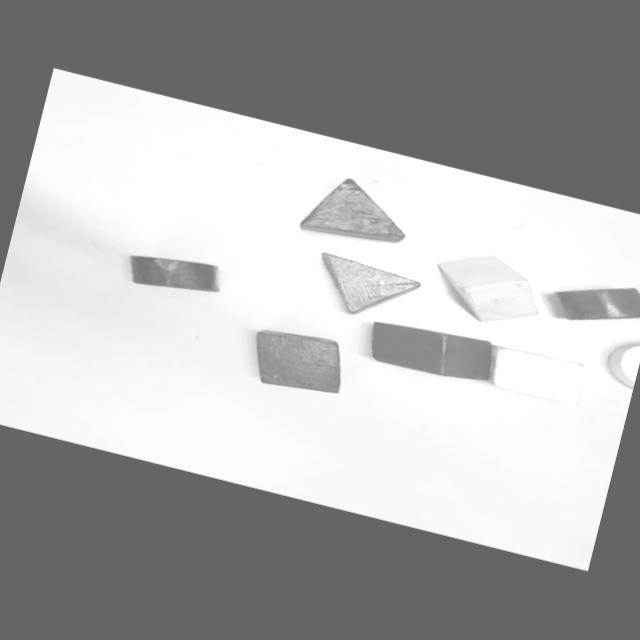bcircle: (126, 245, 227, 303)
bcube: (245, 322, 350, 402)
btriangle: (298, 172, 416, 255)
rcircle: (554, 287, 639, 319)
rcube: (370, 322, 492, 380)
rtriangle: (308, 251, 422, 328)
ycircle: (601, 333, 640, 389)
ycube: (486, 342, 589, 408)
ytriangle: (428, 244, 547, 332)
